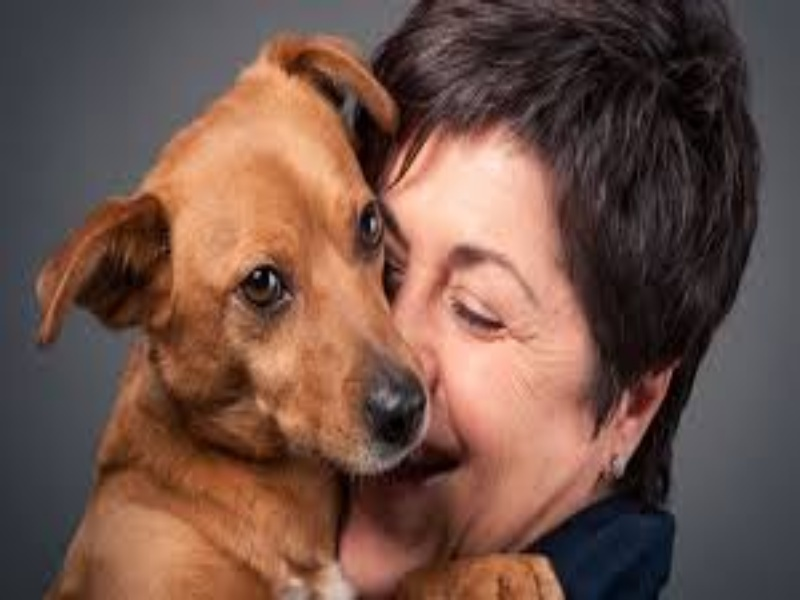dog: (21, 33, 445, 600)
